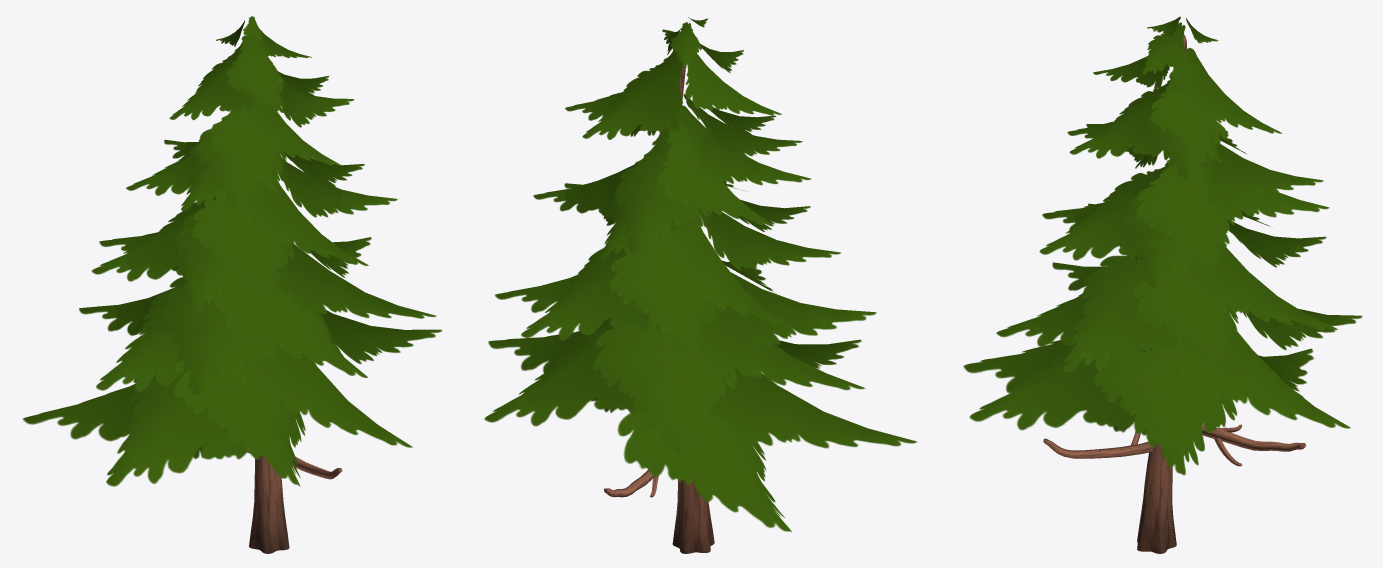
The model's file is pine.glb.
3 renders of one model, left to right at view 1: azimuth 30°, elevation 25°; view 2: azimuth 150°, elevation 25°; view 3: azimuth 270°, elevation 25°, orthographic. The views are drawn at different scales.
Visible parts, largest first — view 1: Pine_2; view 2: Pine_2; view 3: Pine_2.
Boxes of the visible parts, x1,y1,x2,y2 form: Pine_2: [22, 16, 442, 553]; Pine_2: [484, 17, 917, 553]; Pine_2: [963, 16, 1362, 553].
Bounding box in the file's own units: 5.73 × 7.38 × 5.22.
2 materials, 2 textured.
